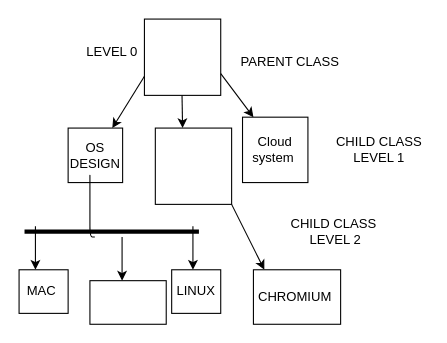
Some shapes in this 447 by 343 pixel diagram are drawn without their labels. Each missing label, with the centre of its shape:
C++ application: the point at 182,56
MAKING BROWSERS: the point at 193,165
WINDOWS: the point at 127,302
